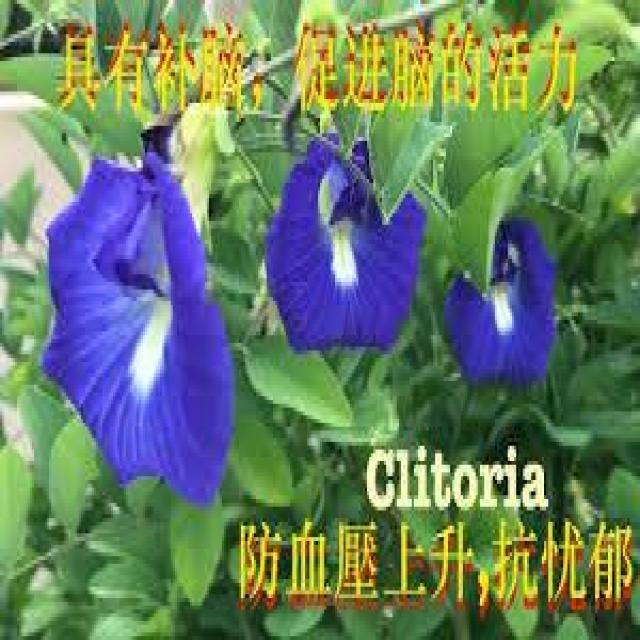organic waste: (41, 151, 248, 508), (264, 129, 429, 362), (433, 224, 559, 388)
